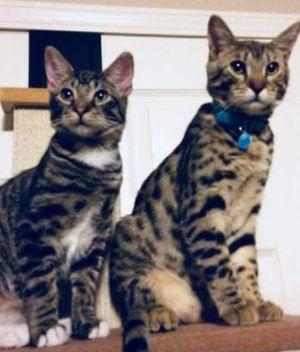bengal: (197, 9, 300, 119)
